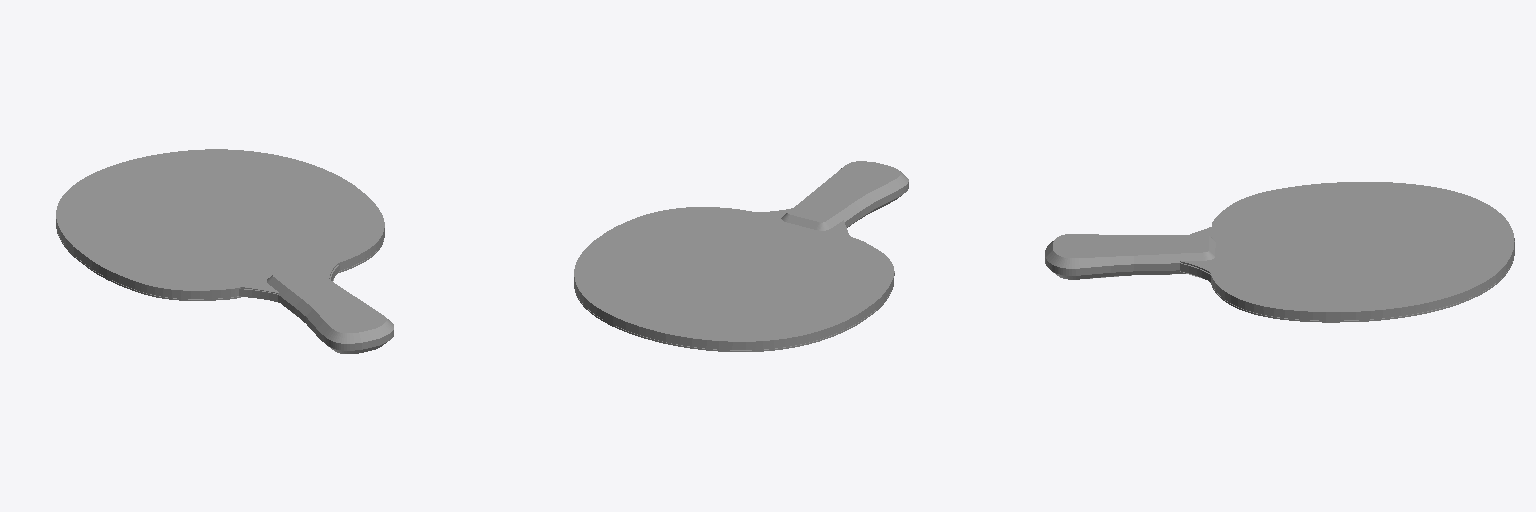
File: paddle.obj
3 views of the same model, side by side, from view 1: azimuth 30°, elevation 25°; view 2: azimuth 150°, elevation 25°; view 3: azimuth 270°, elevation 25° (orthographic).
Parts seen in each view (by area): view 1: Paddle_one; view 2: Paddle_one; view 3: Paddle_one.
Boxes of the visible parts, <box> form: Paddle_one: <box>56,149,393,353</box>; Paddle_one: <box>574,161,908,351</box>; Paddle_one: <box>1045,182,1514,322</box>.
Size of the model in its own units: 3.94 by 0.3417 by 5.91.